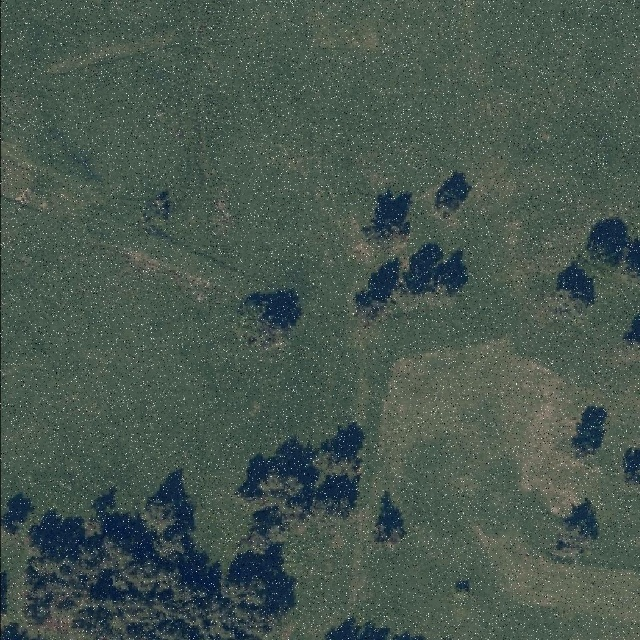vegetation: (0, 441, 368, 640), (352, 174, 469, 326), (552, 221, 640, 312), (236, 298, 290, 347)
